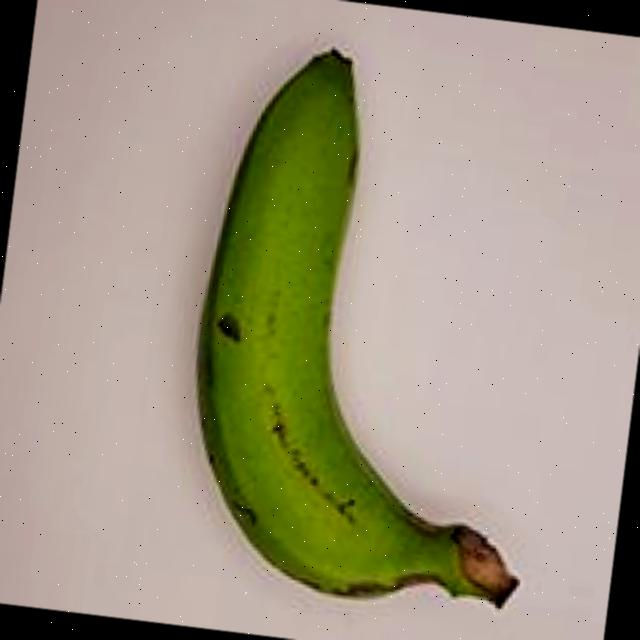Raw: (138, 16, 594, 640)
